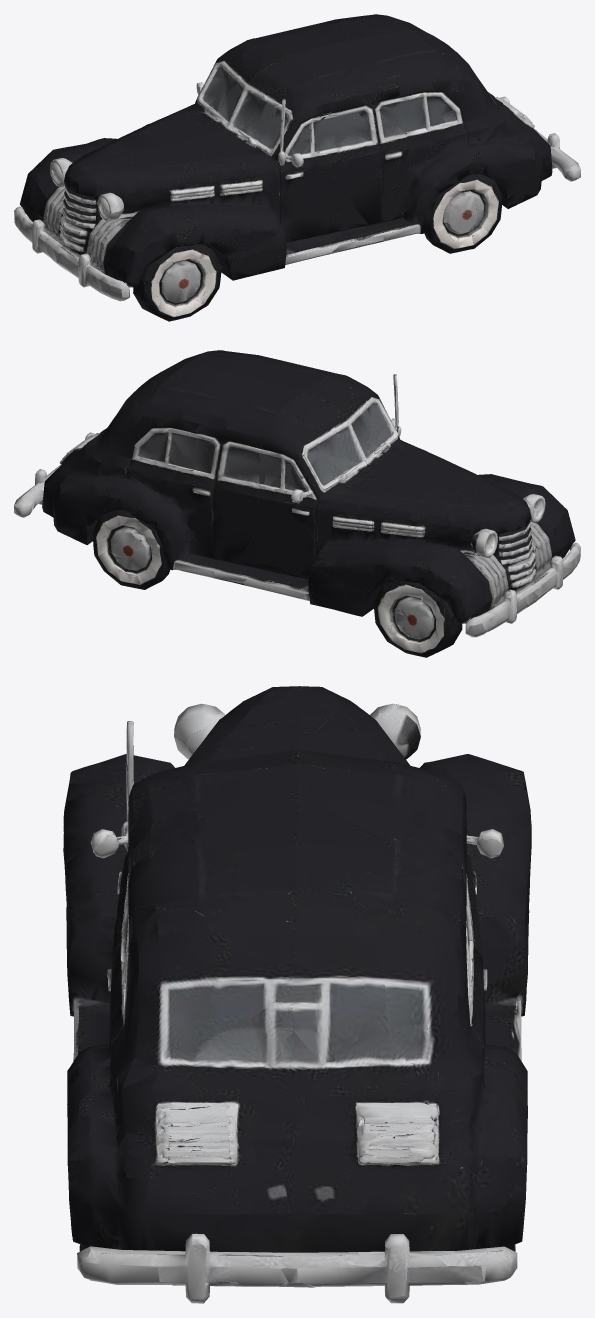
The model's file is Car_Regent.glb.
3 renders of one model, top to bottom at view 1: azimuth 30°, elevation 25°; view 2: azimuth 150°, elevation 25°; view 3: azimuth 270°, elevation 25°, orthographic. The views are drawn at different scales.
Parts seen in each view (by area): view 1: Car_Regent; view 2: Car_Regent; view 3: Car_Regent.
Part boxes in pixels (x1,y1,x2,y2): Car_Regent: (14,14,580,321); Car_Regent: (14,350,580,657); Car_Regent: (63,686,531,1303).
Bounding box in the file's own units: 4.9 × 1.84 × 2.08.
1 material, 1 textured.
